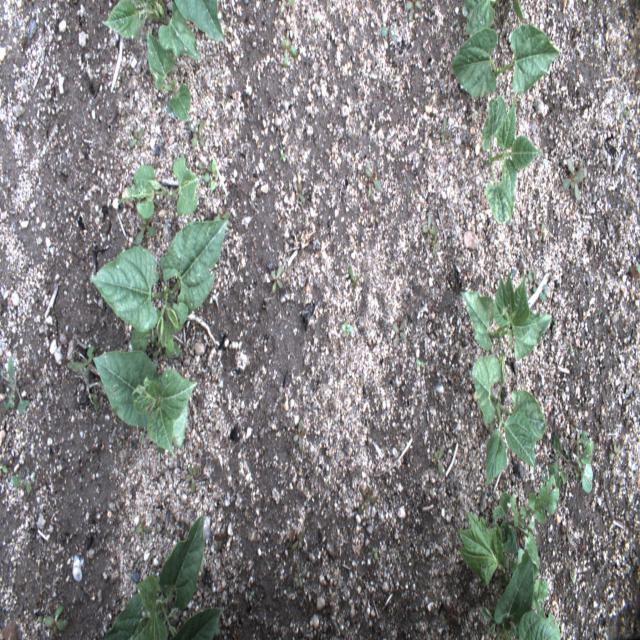crop: (90, 219, 228, 357), (457, 474, 560, 639), (104, 514, 222, 640), (93, 350, 198, 458), (472, 355, 546, 486), (459, 268, 552, 362), (481, 94, 542, 225), (450, 23, 560, 95), (102, 0, 226, 61), (478, 554, 562, 639), (118, 156, 199, 218), (147, 30, 191, 120), (462, 1, 526, 34)
weed: (547, 430, 594, 493), (65, 342, 98, 412), (5, 351, 29, 410), (562, 159, 588, 201), (43, 602, 68, 637), (135, 208, 155, 245), (365, 162, 382, 200), (357, 486, 378, 516), (202, 157, 218, 193), (281, 37, 298, 69), (421, 212, 437, 245), (212, 206, 231, 231), (392, 319, 407, 348), (190, 119, 205, 148), (293, 418, 305, 453), (184, 464, 198, 493), (432, 445, 445, 476), (271, 265, 283, 295), (407, 0, 422, 24), (10, 476, 32, 492), (526, 268, 540, 293), (134, 521, 152, 540), (348, 264, 362, 288), (128, 128, 144, 149), (440, 113, 450, 145), (293, 564, 308, 584), (292, 528, 306, 549), (340, 318, 354, 339), (379, 24, 396, 39), (608, 443, 622, 461), (146, 192, 160, 208), (279, 0, 294, 14), (432, 227, 439, 255), (294, 182, 303, 202), (538, 220, 546, 242), (622, 100, 630, 122), (539, 282, 548, 300), (568, 570, 576, 586), (0, 462, 9, 474), (372, 546, 378, 562), (414, 359, 426, 367), (569, 345, 576, 358), (249, 590, 255, 602), (314, 16, 321, 25), (281, 150, 285, 162), (453, 18, 459, 25)
